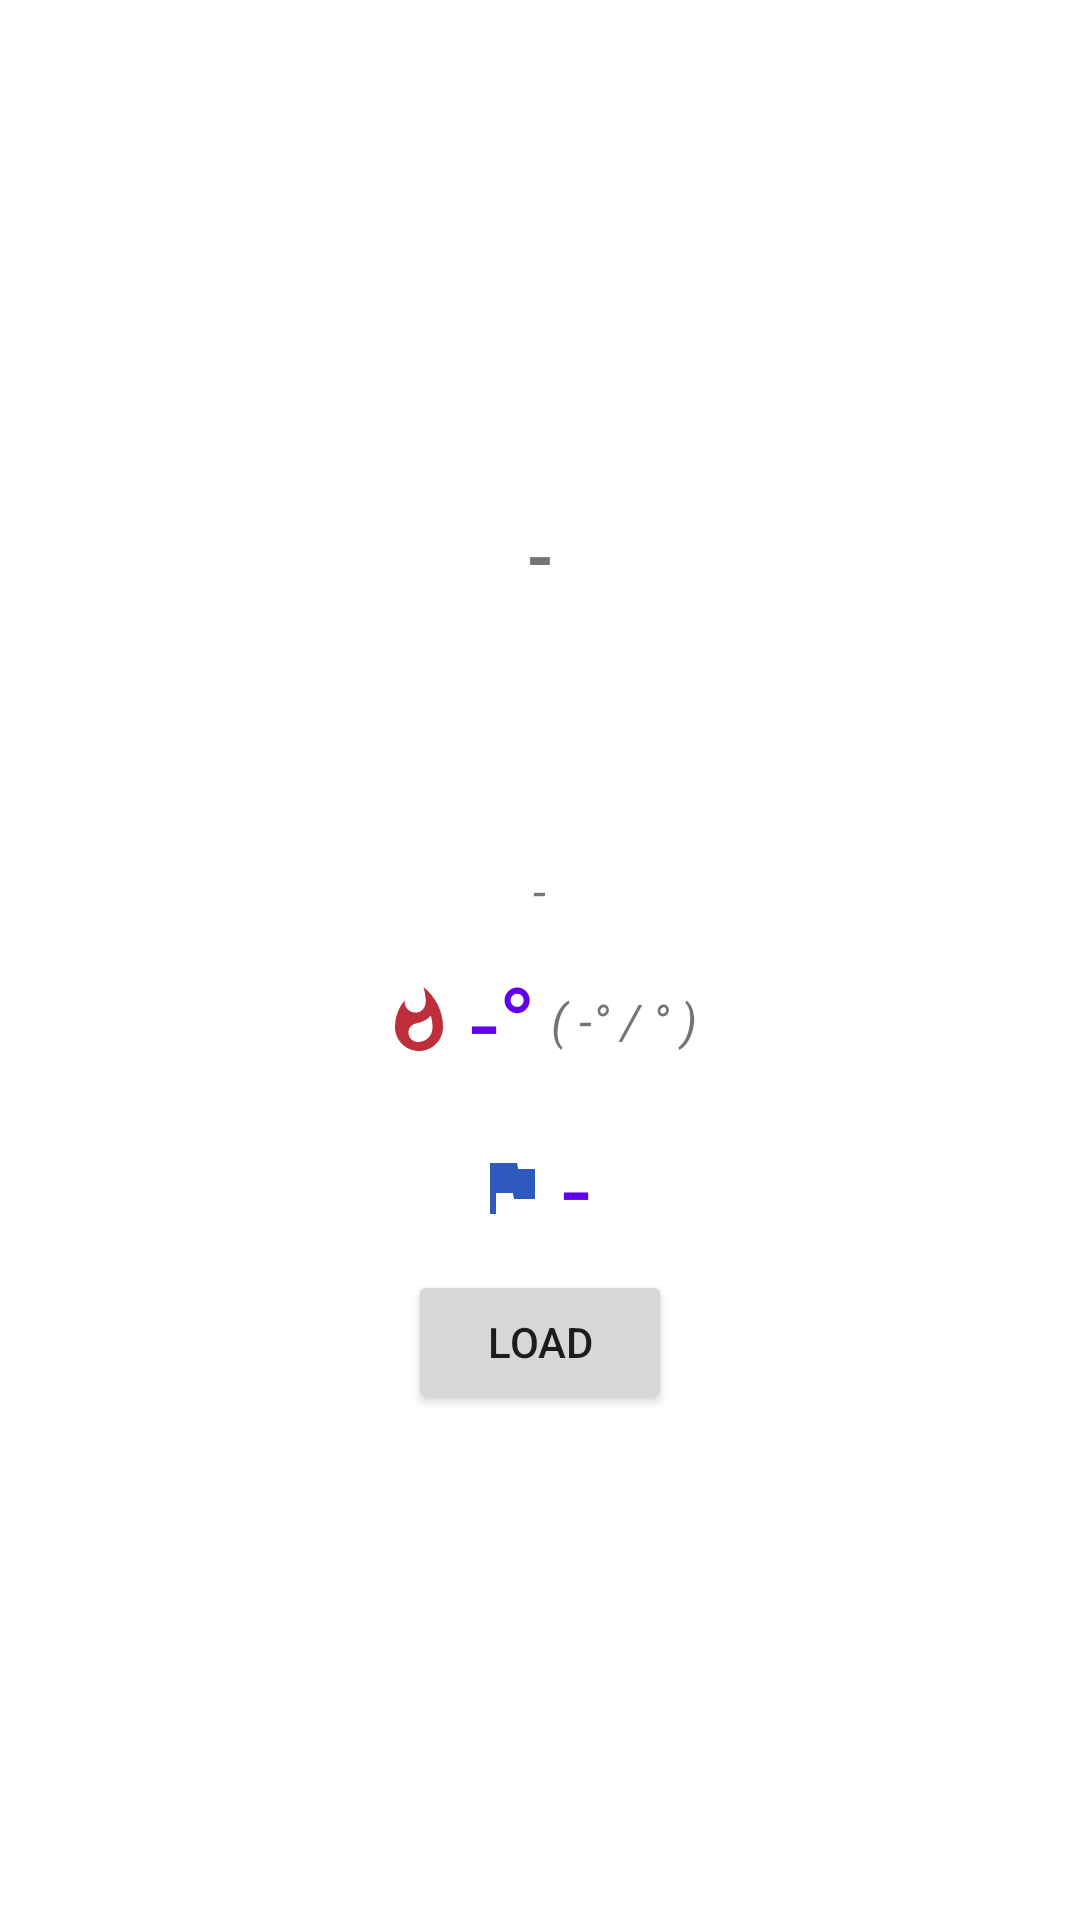

Screen size 1080px x 1920px. Icon name, then its center in pixels as (x,y):
flag: (512,1188)
whatshot: (419,1019)
